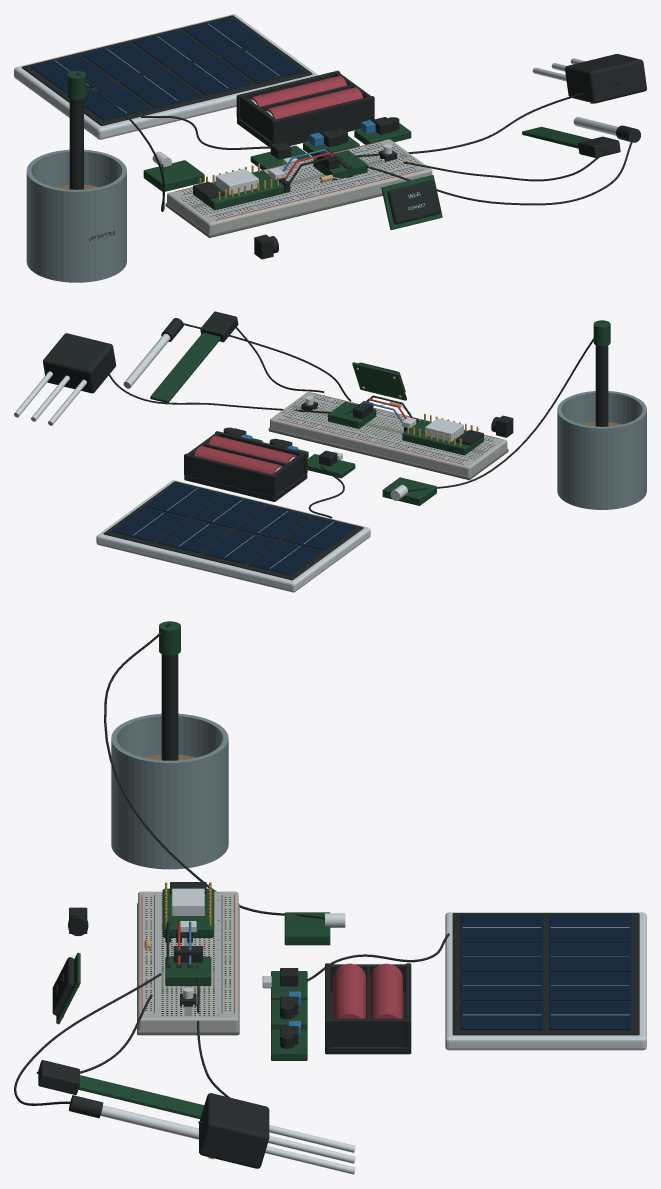
File: compact-breadboard.glb
The picture shows the model from 3 angles, top to bottom: view 1: azimuth 30°, elevation 25°; view 2: azimuth 150°, elevation 25°; view 3: azimuth 270°, elevation 25°; orthographic projection. The views are drawn at different scales.
Parts seen in each view (by area): view 1: 17 - Part 18 - Separate pH soil water sample cup, Breadboard molded body, 01 - Part 01 - Flat solar panel frame, 01 - Part 01 - Solar panel backing, 15 - Part 16 - Provisional RS485 NPK probe, 10 - Battery holder side wall, 01 - Part 01 - Solar cell.003, 01 - Part 01 - Solar cell.002, 01 - Part 01 - Solar cell.005, 01 - Part 01 - Solar cell.007, 01 - Part 01 - Solar cell.006, 01 - Part 01 - Solar cell.001 (+28 smaller); view 2: 17 - Part 18 - Separate pH soil water sample cup, Breadboard molded body, 01 - Part 01 - Flat solar panel frame, 01 - Part 01 - Solar panel backing, 15 - Part 16 - Provisional RS485 NPK probe, 10 - Battery holder side wall.001, 13 - Part 14 - Capacitive moisture blade, 01 - Part 01 - Solar cell.002, 01 - Part 01 - Solar cell, 01 - Part 01 - Solar cell.001, 01 - Part 01 - Solar cell.003, 01 - Part 01 - Solar cell.004 (+22 smaller); view 3: 17 - Part 18 - Separate pH soil water sample cup, Breadboard molded body, 01 - Part 01 - Flat solar panel frame, 01 - Part 01 - Solar panel backing, 15 - Part 16 - Provisional RS485 NPK probe, 01 - Part 01 - Solar cell.002, 01 - Part 01 - Solar cell, 01 - Part 01 - Solar cell.001, 01 - Part 01 - Solar cell.005, 01 - Part 01 - Solar cell.006, 01 - Part 01 - Solar cell.004, 01 - Part 01 - Solar cell.003 (+18 smaller).
Boxes of the visible parts, bbox=[...] form: 17 - Part 18 - Separate pH soil water sample cup: bbox=[26, 149, 126, 282]; Breadboard molded body: bbox=[167, 139, 432, 233]; 01 - Part 01 - Flat solar panel frame: bbox=[14, 14, 318, 139]; 01 - Part 01 - Solar panel backing: bbox=[22, 15, 312, 125]; 15 - Part 16 - Provisional RS485 NPK probe: bbox=[565, 54, 646, 103]; 10 - Battery holder side wall: bbox=[271, 96, 374, 143]; 01 - Part 01 - Solar cell.003: bbox=[221, 45, 303, 83]; 01 - Part 01 - Solar cell.002: bbox=[170, 57, 252, 95]; 01 - Part 01 - Solar cell.005: bbox=[82, 42, 163, 80]; 01 - Part 01 - Solar cell.007: bbox=[183, 17, 265, 55]; 01 - Part 01 - Solar cell.006: bbox=[133, 30, 214, 68]; 01 - Part 01 - Solar cell.001: bbox=[119, 70, 201, 107]; 17 - Part 18 - Separate pH soil water sample cup: bbox=[557, 391, 646, 509]; Breadboard molded body: bbox=[270, 391, 507, 476]; 01 - Part 01 - Flat solar panel frame: bbox=[96, 480, 370, 592]; 01 - Part 01 - Solar panel backing: bbox=[103, 481, 363, 580]; 15 - Part 16 - Provisional RS485 NPK probe: bbox=[43, 333, 115, 393]; 10 - Battery holder side wall.001: bbox=[184, 453, 276, 496]; 13 - Part 14 - Capacitive moisture blade: bbox=[150, 332, 220, 402]; 01 - Part 01 - Solar cell.002: bbox=[191, 494, 264, 528]; 01 - Part 01 - Solar cell: bbox=[282, 516, 355, 550]; 01 - Part 01 - Solar cell.001: bbox=[236, 505, 309, 539]; 01 - Part 01 - Solar cell.003: bbox=[145, 483, 218, 517]; 01 - Part 01 - Solar cell.004: bbox=[248, 541, 321, 575]; 17 - Part 18 - Separate pH soil water sample cup: bbox=[111, 713, 228, 869]; Breadboard molded body: bbox=[138, 891, 238, 1030]; 01 - Part 01 - Flat solar panel frame: bbox=[445, 912, 646, 1050]; 01 - Part 01 - Solar panel backing: bbox=[452, 913, 639, 1035]; 15 - Part 16 - Provisional RS485 NPK probe: bbox=[199, 1093, 269, 1168]; 01 - Part 01 - Solar cell.002: bbox=[460, 972, 543, 1000]; 01 - Part 01 - Solar cell: bbox=[460, 914, 543, 942]; 01 - Part 01 - Solar cell.001: bbox=[460, 943, 543, 971]; 01 - Part 01 - Solar cell.005: bbox=[549, 943, 631, 971]; 01 - Part 01 - Solar cell.006: bbox=[549, 972, 631, 1000]; 01 - Part 01 - Solar cell.004: bbox=[549, 914, 631, 942]; 01 - Part 01 - Solar cell.003: bbox=[460, 1002, 543, 1029].
Size of the model in its own units: 0.462 by 0.1345 by 0.345.
